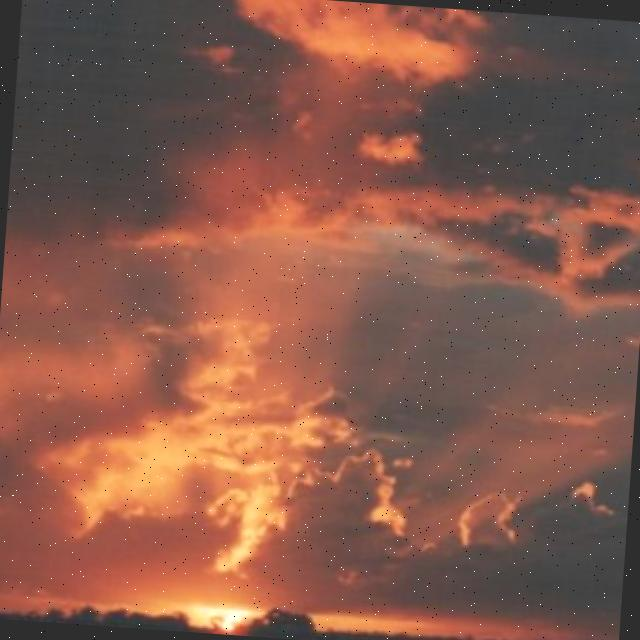As: (1, 41, 640, 523)
